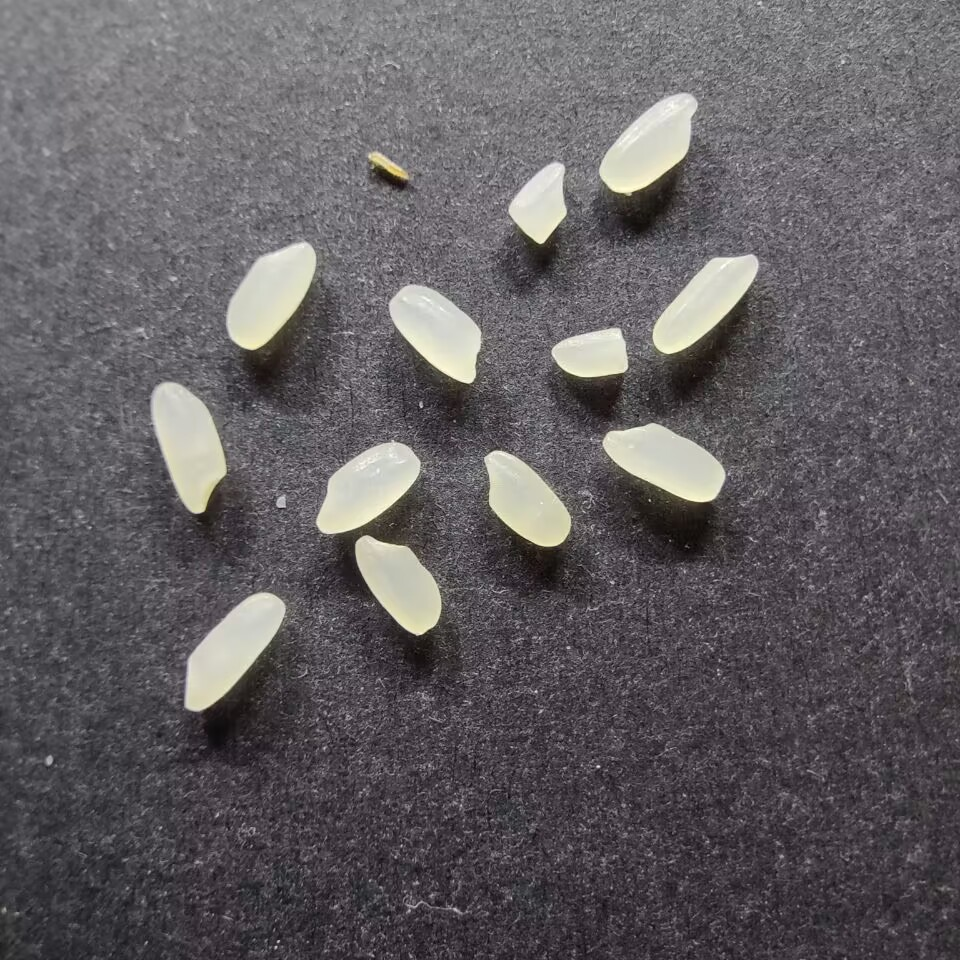broken: (505, 161, 569, 247), (549, 325, 629, 379)
others: (363, 148, 412, 181)
rice: (181, 590, 286, 713), (651, 252, 762, 354), (148, 379, 228, 514), (224, 240, 319, 351), (313, 439, 421, 536), (600, 421, 727, 503), (597, 91, 698, 194), (386, 283, 484, 384), (353, 533, 444, 636), (482, 449, 573, 550)
